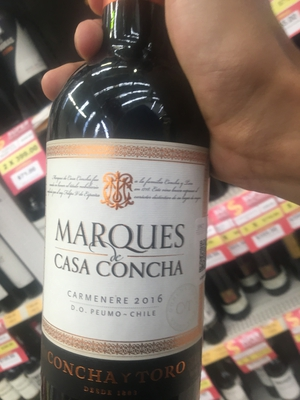marques de casa concha carmenere: (34, 18, 226, 400)
